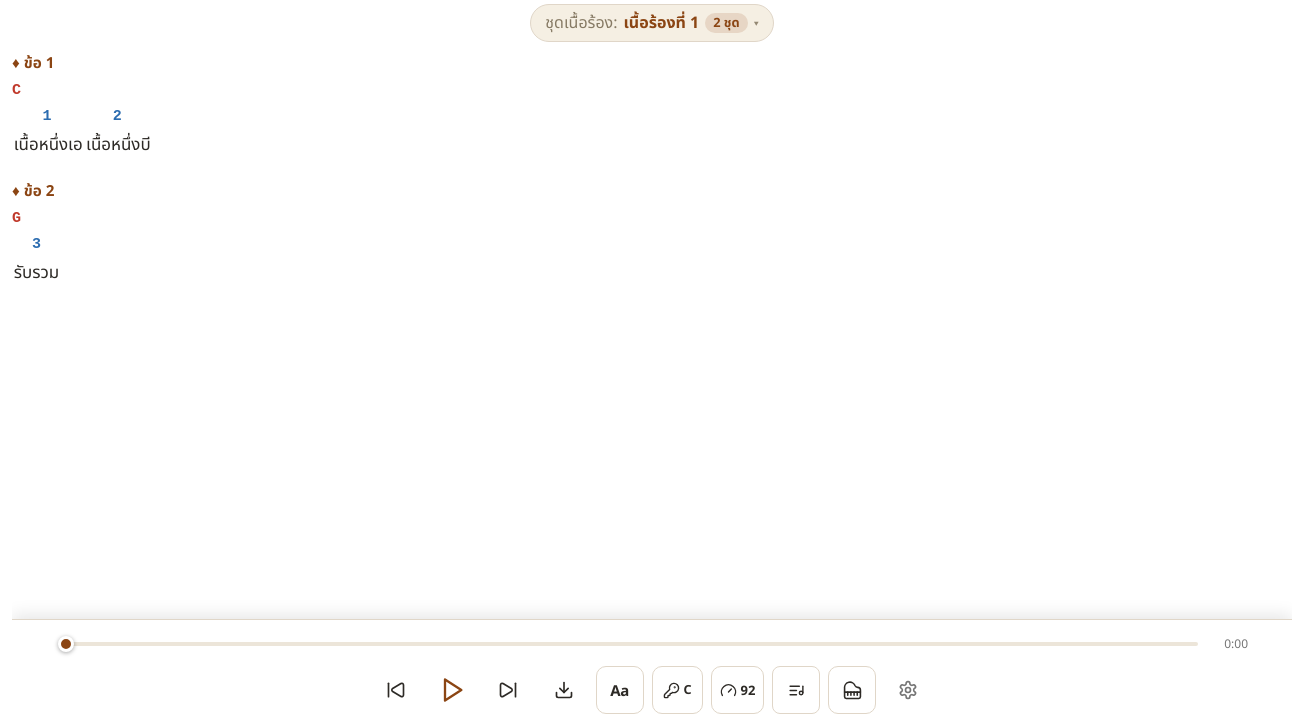
Test: SongViewer — the lyric-set switcher is a collapsed disclosure › the summary opens and closes the tabs, and says so to a screen reader
Click the button with class "lset-summary".
click(652, 23)  # box 530,4 -> 774,42
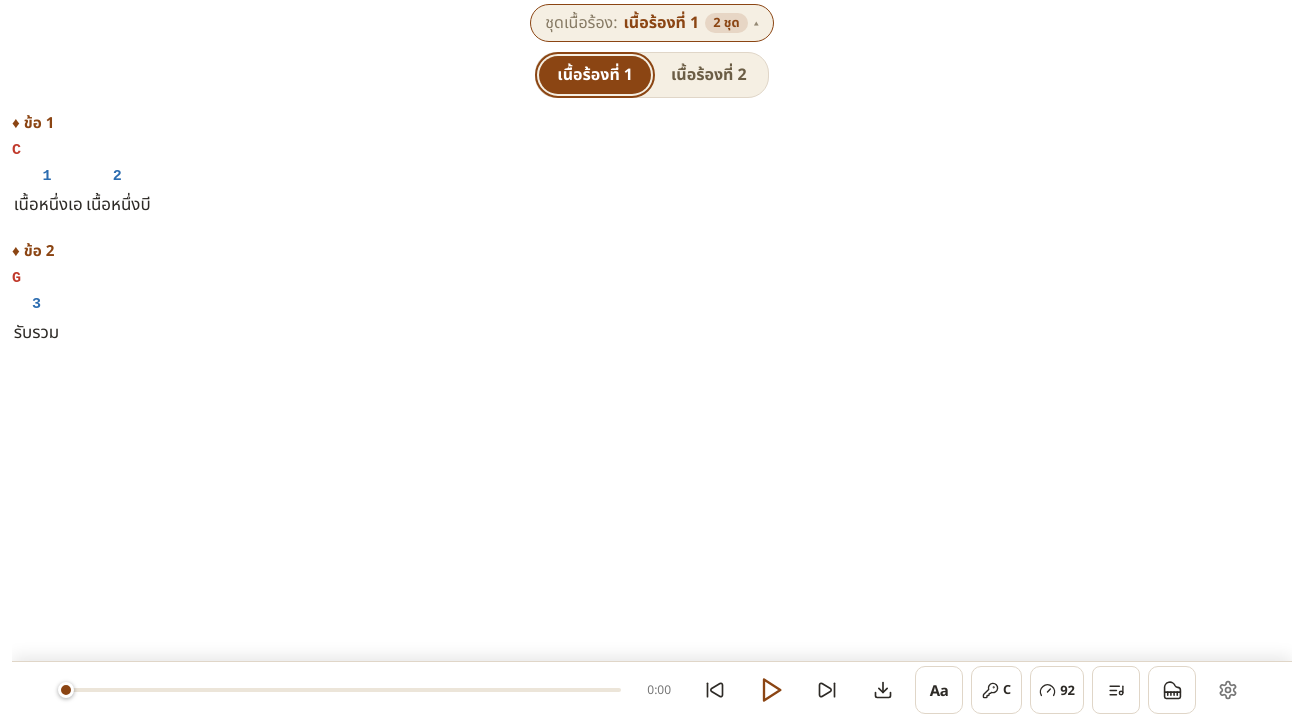
Result: the button with class "lset-summary" is expanded
Click the button with class "lset-summary".
click(652, 23)  # box 530,4 -> 774,42
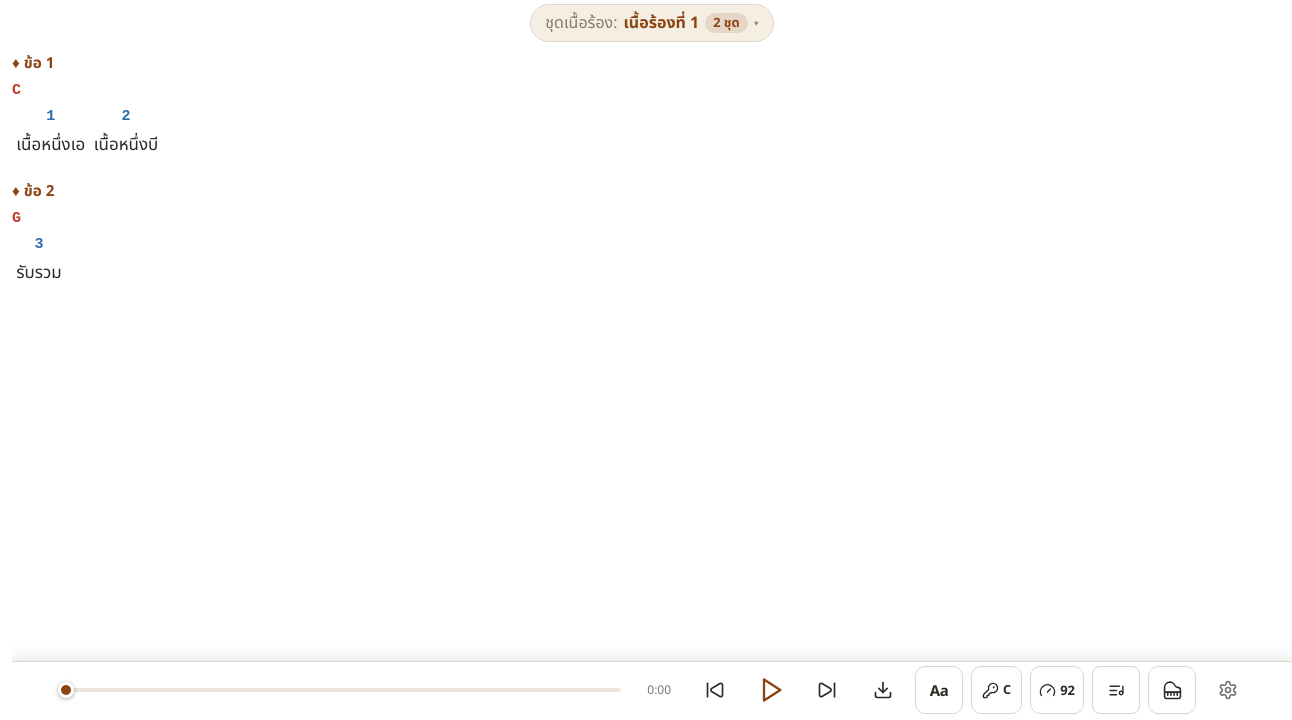
Result: the button with class "lset-summary" is collapsed at 530,4 -> 774,42
